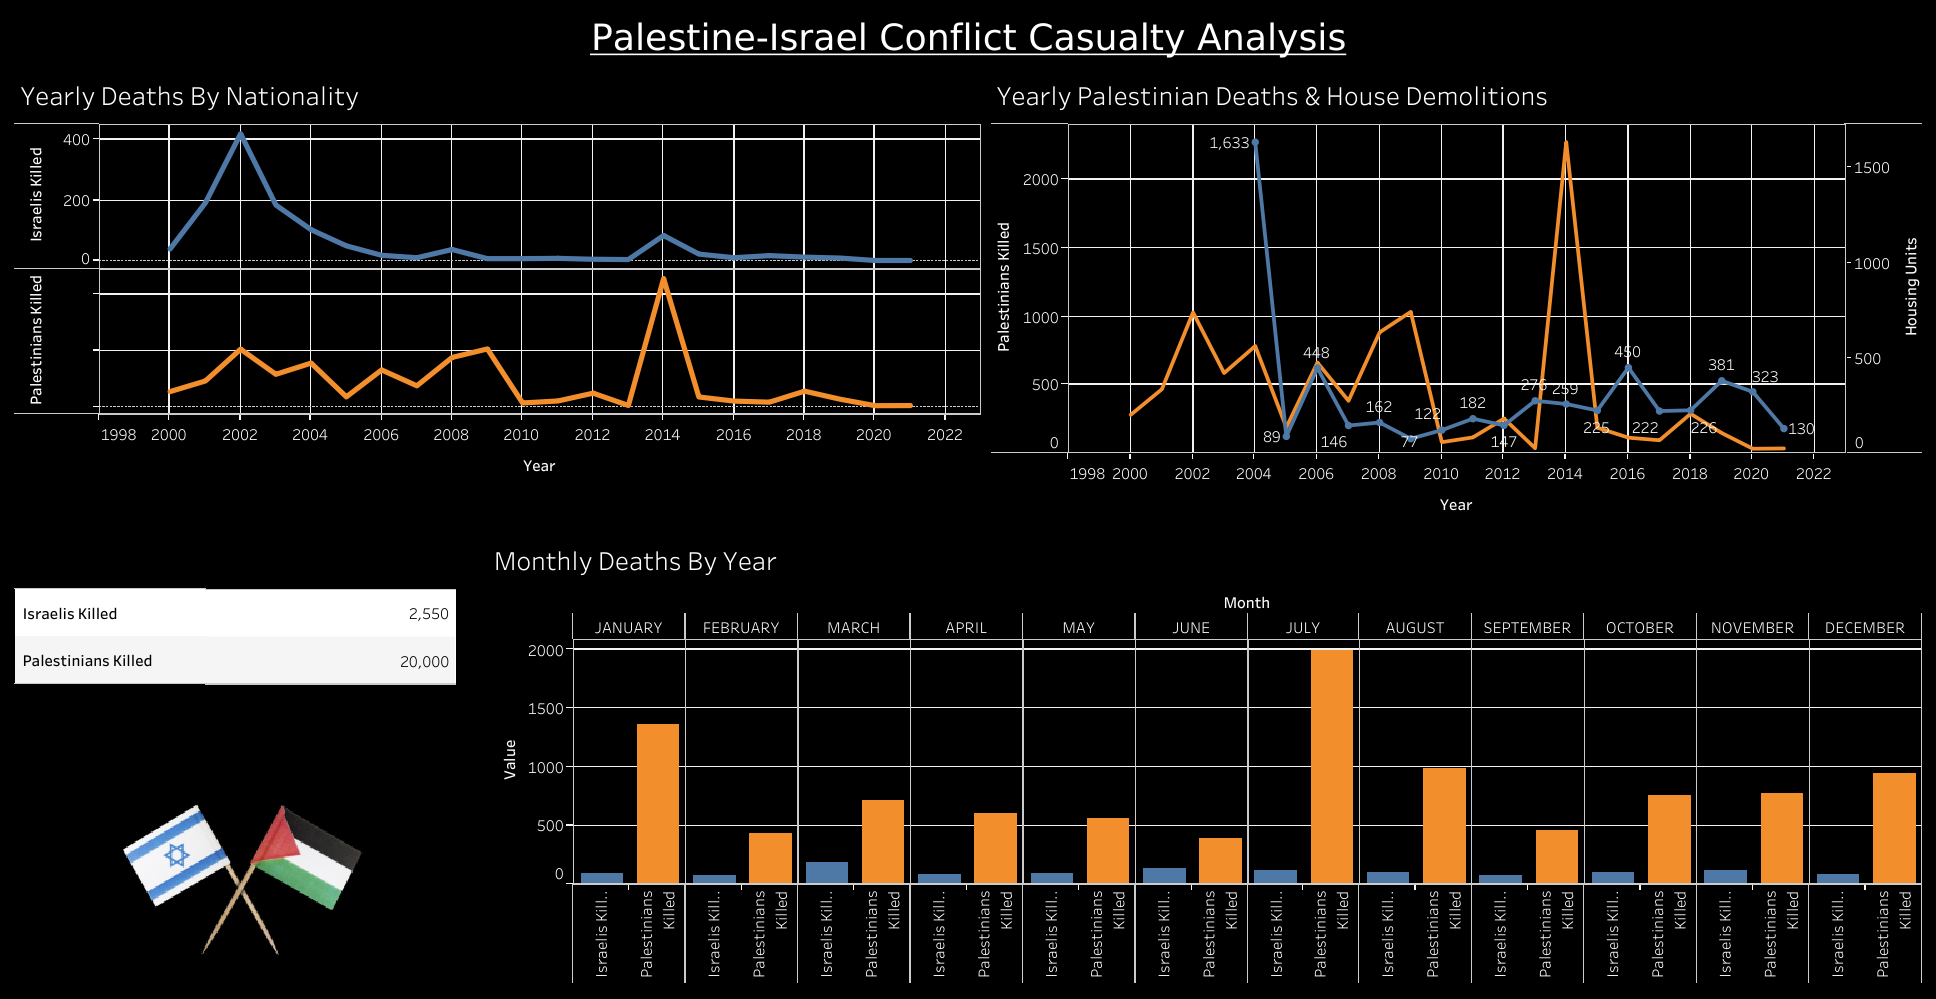

The page's visual inventory and layout, read from the dashboard file:
{"tool":"tableau","page":{"name":"Dashboard 1","canvas":[1550,800],"ordinal":0},"visuals":[{"type":"text","box":[8,8,1534,43.8]},{"type":"worksheet","title":"Death analysis","mark":"Automatic","rows":["Israelis Killed","Palestinians Killed"],"cols":["Year"],"box":[8,51.8,781.4,372.2]},{"type":"worksheet","title":"3d HousingPalestine killed","mark":"Automatic","rows":["Palestinians Killed","Housing Units"],"cols":["Year"],"box":[789.4,51.8,752.6,372.2]},{"type":"worksheet","title":"Sheet 14","mark":"Automatic","box":[8,424,379,184]},{"type":"worksheet","title":"Monthly Analysis","mark":"Automatic","cols":["Month"],"box":[387,424,1155,368]},{"type":"image","param":"Image/original.jpg","box":[8,608,379,184]}]}

Visuals, with their boxes in screenshot pixels (x1, y1, x2, y2), scaled from the page's 1550x800 canvas onto the 1936x999 screenshot:
text: x1=10, y1=10, x2=1926, y2=65
"Death analysis" worksheet: x1=10, y1=65, x2=986, y2=529
"3d HousingPalestine killed" worksheet: x1=986, y1=65, x2=1926, y2=529
"Sheet 14" worksheet: x1=10, y1=529, x2=483, y2=759
"Monthly Analysis" worksheet: x1=483, y1=529, x2=1926, y2=989
image: x1=10, y1=759, x2=483, y2=989
